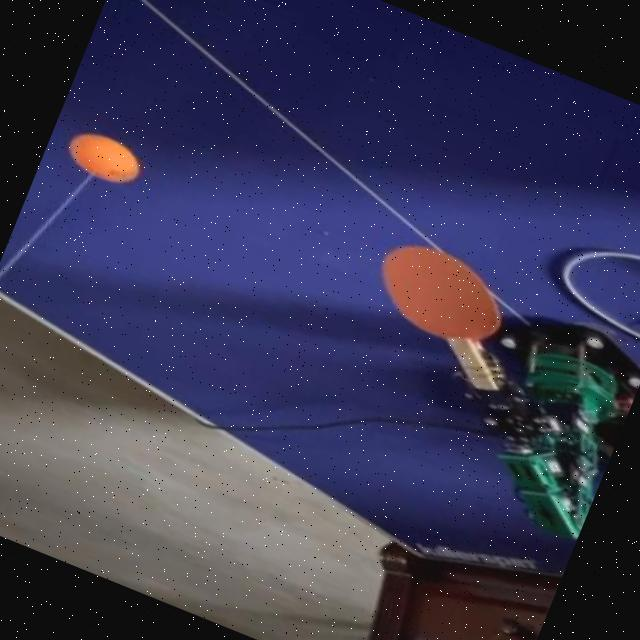ping-pong-ball: (58, 122, 148, 192)
